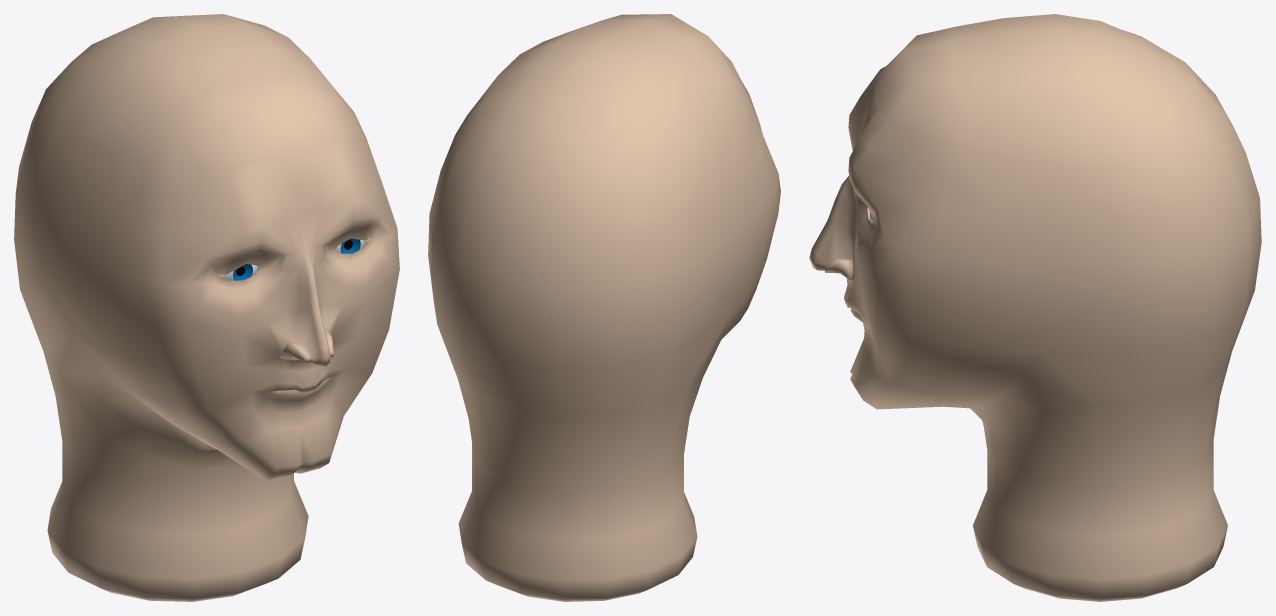
File: mememan.FBX
3 views of the same model, side by side, from view 1: azimuth 30°, elevation 25°; view 2: azimuth 150°, elevation 25°; view 3: azimuth 270°, elevation 25° (orthographic). The views are drawn at different scales.
Visible parts, largest first — view 1: specialmemefresh; view 2: specialmemefresh; view 3: specialmemefresh.
Part boxes in pixels (x1,y1,x2,y2): specialmemefresh: (14, 14, 399, 601); specialmemefresh: (428, 14, 780, 601); specialmemefresh: (809, 14, 1261, 601).
Size of the model in its own units: 50.46 by 93.03 by 72.15.
